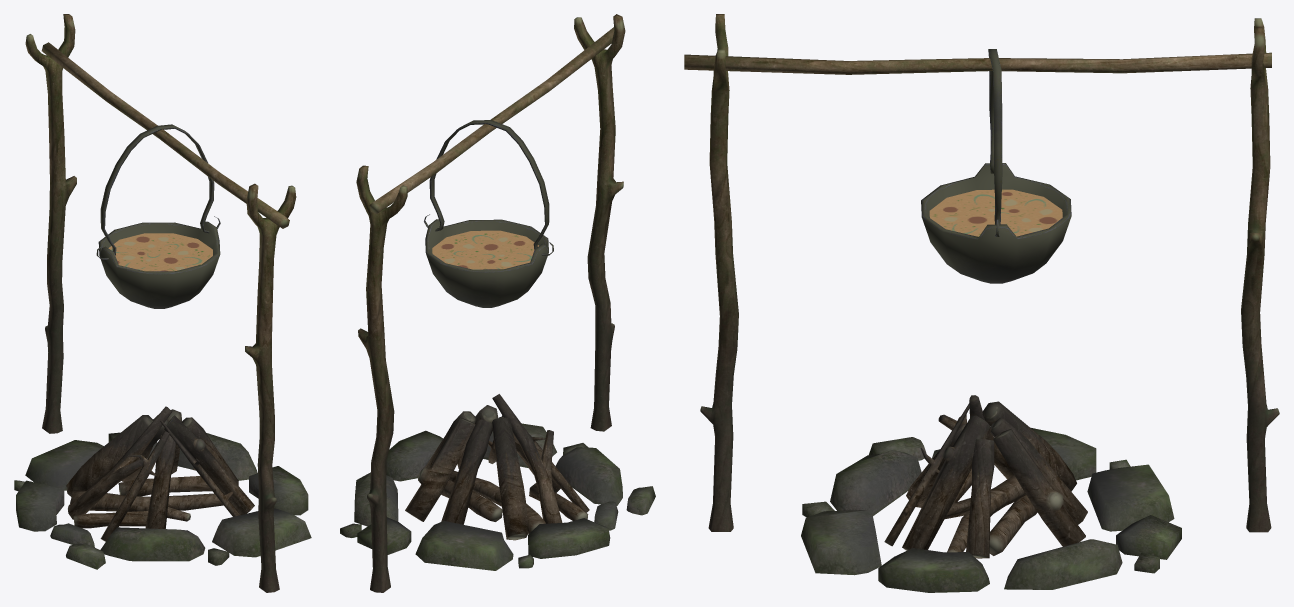
Rendered from pot_with_food_and__bonfire_lowpoly.glb.
3 renders of one model, left to right at view 1: azimuth 30°, elevation 25°; view 2: azimuth 150°, elevation 25°; view 3: azimuth 270°, elevation 25°, orthographic. The views are drawn at different scales.
Visible parts, largest first — view 1: CampfirePotLow; view 2: CampfirePotLow; view 3: CampfirePotLow.
Part boxes in pixels (x1,y1,x2,y2): CampfirePotLow: (14,14,311,592); CampfirePotLow: (340,14,655,592); CampfirePotLow: (684,14,1279,592).
Size of the model in its own units: 1.17 by 1.9 by 2.
Materials: 1 (1 with a texture image).
